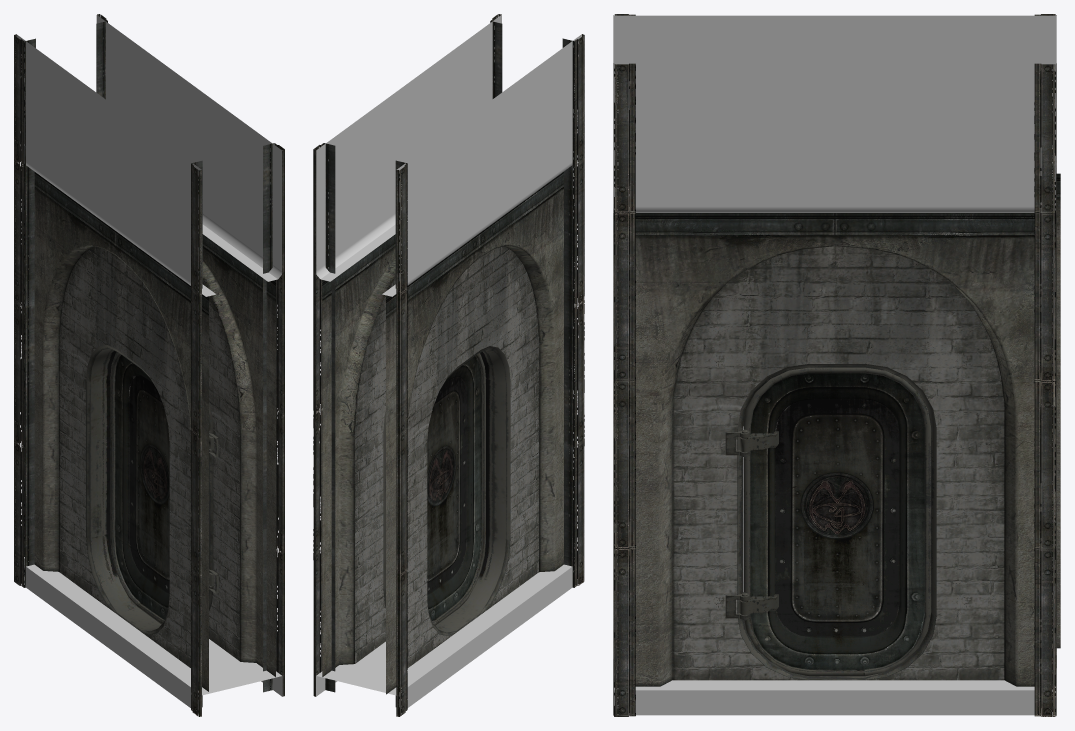
File: tesla_ents_door_01_closed.dae
3 renders of one model, left to right at view 1: azimuth 30°, elevation 25°; view 2: azimuth 150°, elevation 25°; view 3: azimuth 270°, elevation 25°, orthographic. The views are drawn at different scales.
Visible parts, largest first — view 1: polySurface190, door_01_stone, door_01_metal, door_01_door, door_01_bricks; view 2: polySurface190, door_01_stone, door_01_metal, door_01_door, door_01_bricks; view 3: polySurface190, door_01_stone, door_01_door, door_01_metal, door_01_bricks.
Boxes of the visible parts, <box> form: polySurface190: <box>24,166,275,691</box>; door_01_stone: <box>16,15,282,713</box>; door_01_metal: <box>14,14,284,716</box>; door_01_door: <box>110,351,210,624</box>; door_01_bricks: <box>86,344,218,634</box>; polySurface190: <box>322,167,569,694</box>; door_01_stone: <box>316,15,581,708</box>; door_01_metal: <box>313,14,584,716</box>; door_01_door: <box>427,353,485,625</box>; door_01_bricks: <box>383,346,510,635</box>; polySurface190: <box>613,173,1060,686</box>; door_01_stone: <box>613,15,1056,715</box>; door_01_door: <box>740,367,931,676</box>; door_01_metal: <box>613,14,1056,716</box>; door_01_bricks: <box>725,364,936,680</box>.
Size of what is drawn, in the model's own units: 1.07 by 6.5 by 4.04.
